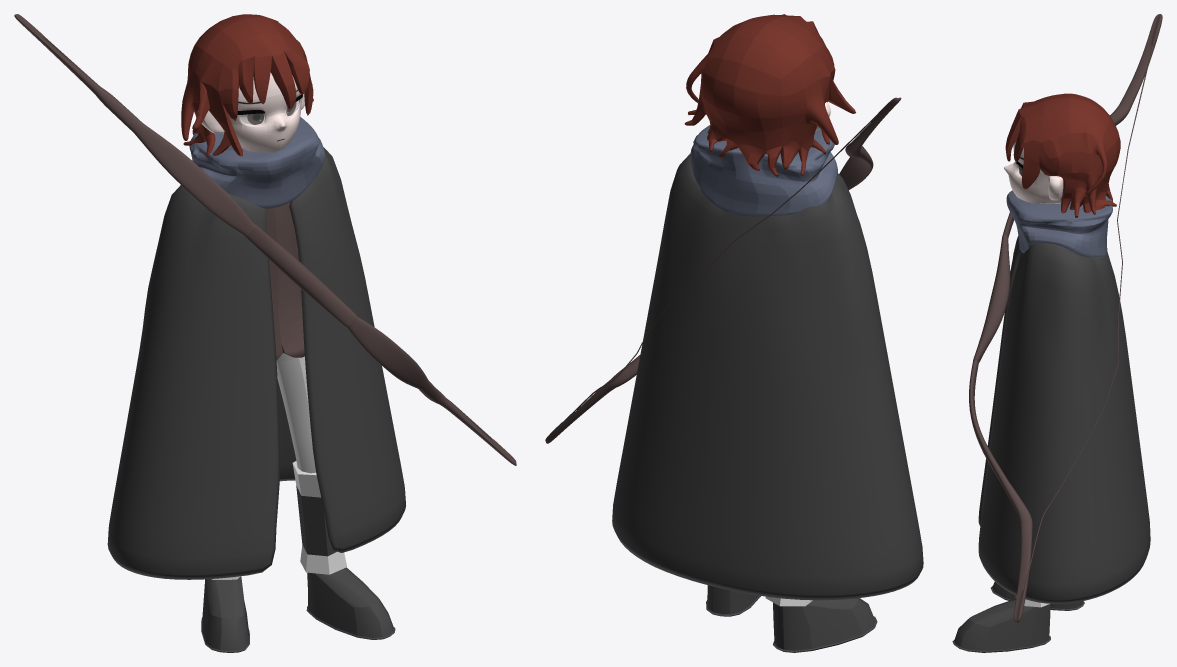
File: NPC2remake.fbx
The picture shows the model from 3 angles, left to right: view 1: azimuth 30°, elevation 25°; view 2: azimuth 150°, elevation 25°; view 3: azimuth 270°, elevation 25°; orthographic projection. The views are drawn at different scales.
Parts seen in each view (by area): view 1: Cylinder, Cube.006, 10490_bow_quiver_arrow_v1_L3.001, Cylinder.003, Cube.001, Cylinder.002, Cube, Cylinder.004, Cylinder.001; view 2: Cylinder, Cube.006, Cube.001, Cylinder.003, 10490_bow_quiver_arrow_v1_L3.001; view 3: Cylinder, Cube.006, 10490_bow_quiver_arrow_v1_L3.001, Cube.001, Cylinder.003, Cube.
Part boxes in pixels (x1=…): Cylinder: x1=107, y1=147, x2=405, y2=579; Cube.006: x1=181, y1=14, x2=313, y2=157; 10490_bow_quiver_arrow_v1_L3.001: x1=14, y1=14, x2=516, y2=465; Cylinder.003: x1=201, y1=567, x2=395, y2=652; Cube.001: x1=189, y1=117, x2=325, y2=208; Cylinder.002: x1=266, y1=202, x2=304, y2=359; Cube: x1=197, y1=72, x2=312, y2=152; Cylinder.004: x1=211, y1=461, x2=347, y2=579; Cylinder.001: x1=276, y1=353, x2=315, y2=473; Cylinder: x1=612, y1=153, x2=923, y2=600; Cube.006: x1=684, y1=14, x2=855, y2=176; Cube.001: x1=690, y1=125, x2=837, y2=216; Cylinder.003: x1=706, y1=585, x2=877, y2=652; 10490_bow_quiver_arrow_v1_L3.001: x1=545, y1=97, x2=901, y2=443; Cylinder: x1=978, y1=236, x2=1150, y2=603; Cube.006: x1=1005, y1=93, x2=1120, y2=217; 10490_bow_quiver_arrow_v1_L3.001: x1=969, y1=14, x2=1162, y2=622; Cube.001: x1=1006, y1=190, x2=1112, y2=257; Cylinder.003: x1=952, y1=581, x2=1084, y2=652; Cube: x1=1004, y1=141, x2=1071, y2=203.
Size of the model in its own units: 338 by 464 by 168.
Materials: 10 (1 with a texture image).
